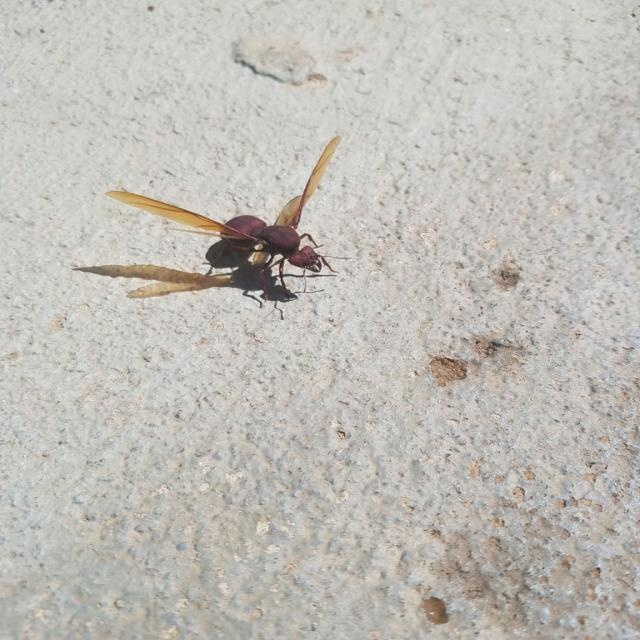Alive-Female-Alate: (104, 135, 354, 321)
